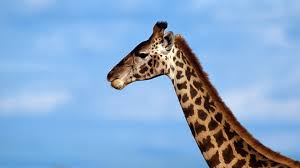Jirafa: (84, 12, 277, 143)
